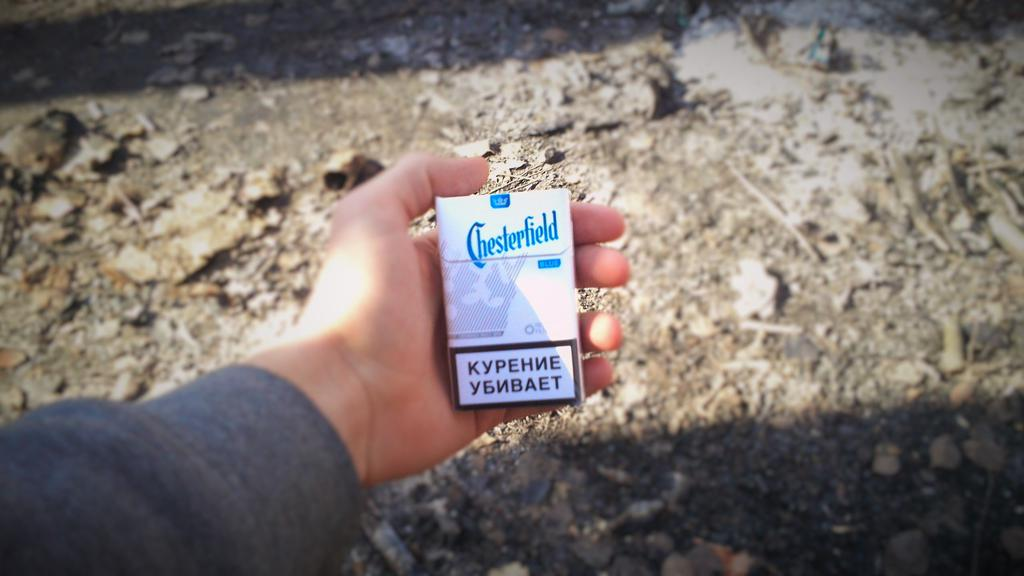chesterfield_blue: (441, 196, 582, 411)
